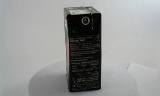appy: (58, 6, 96, 92)
